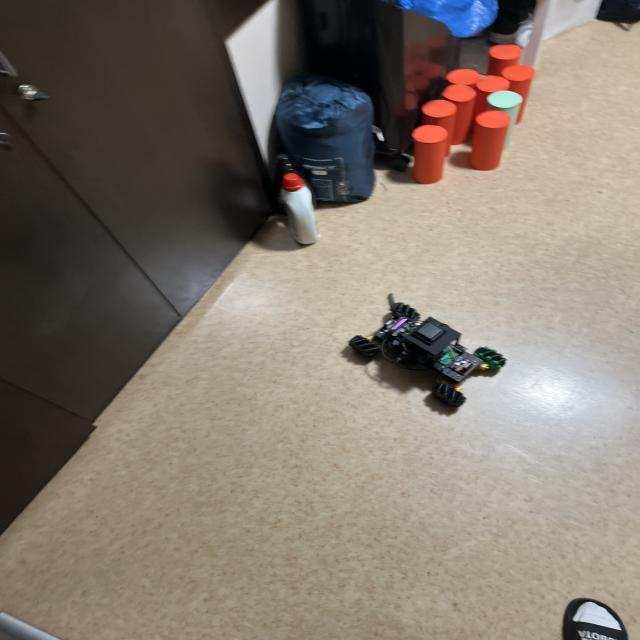robot: (349, 295, 506, 408)
